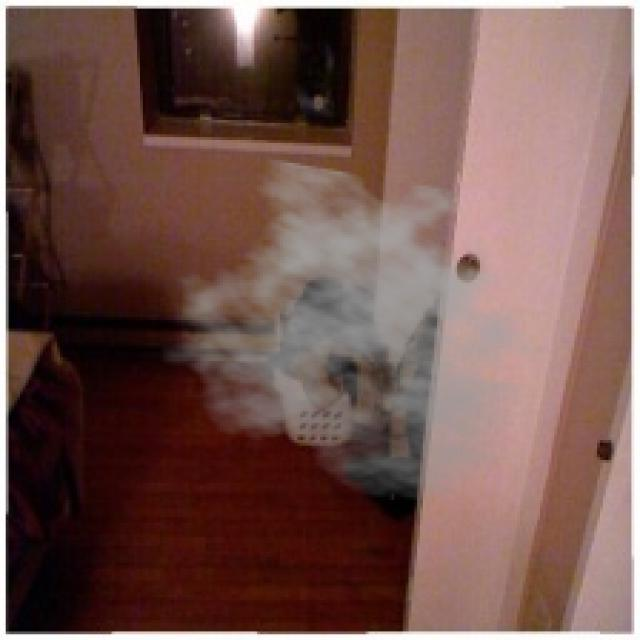smoke: (157, 157, 566, 503)
